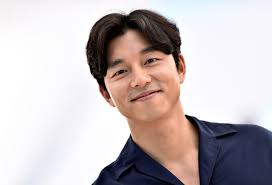eye: (109, 68, 130, 80), (141, 57, 165, 66)
mouth: (125, 90, 166, 103)
nose: (127, 78, 154, 89)
